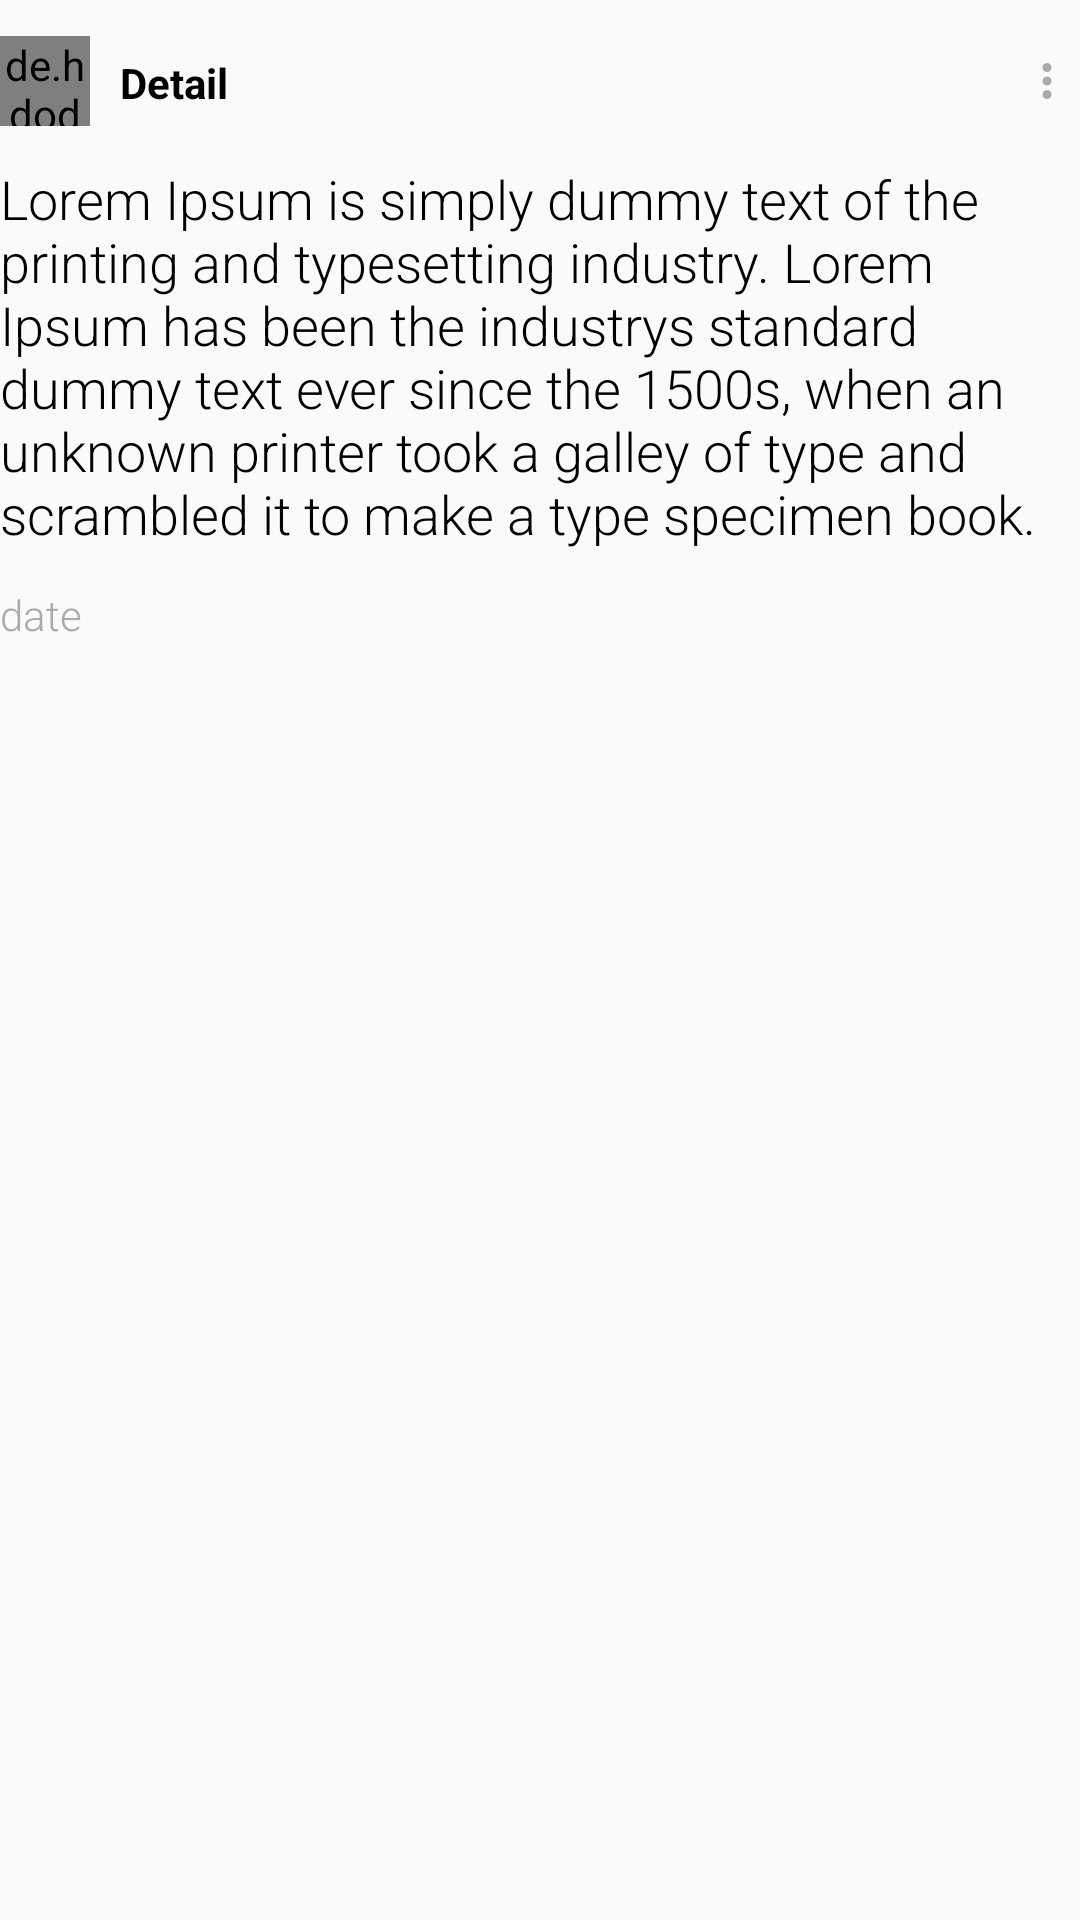

Icon bounding boxes for this 1080*1920 phone screenshot, format (x1, y1, x2, y2):
more vert: (1042, 63, 1052, 99)
